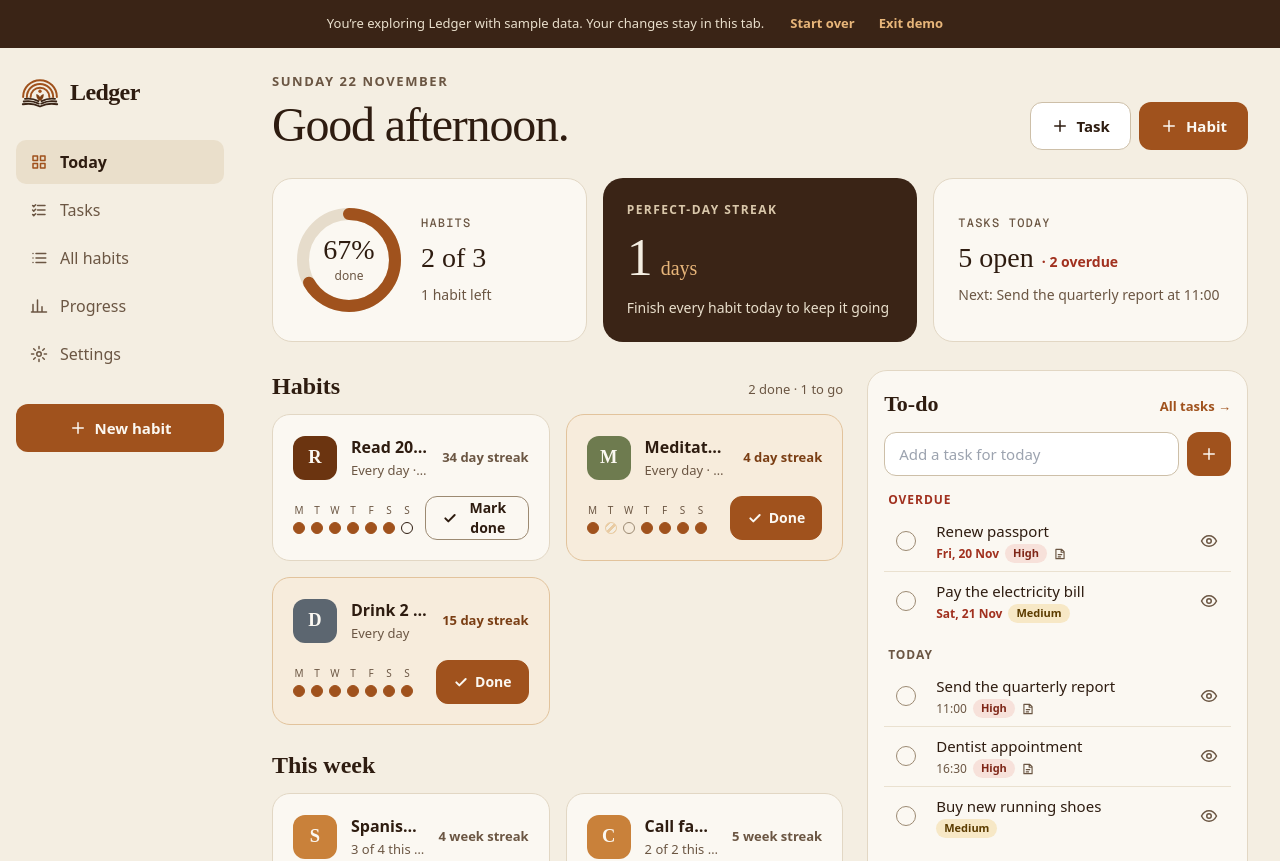
demo › labels account features "Not in the demo" and disables them
The image size is (1280, 861).
Click the link "Settings".
click(75, 354)  # box x1=30 y1=343 x2=121 y2=365
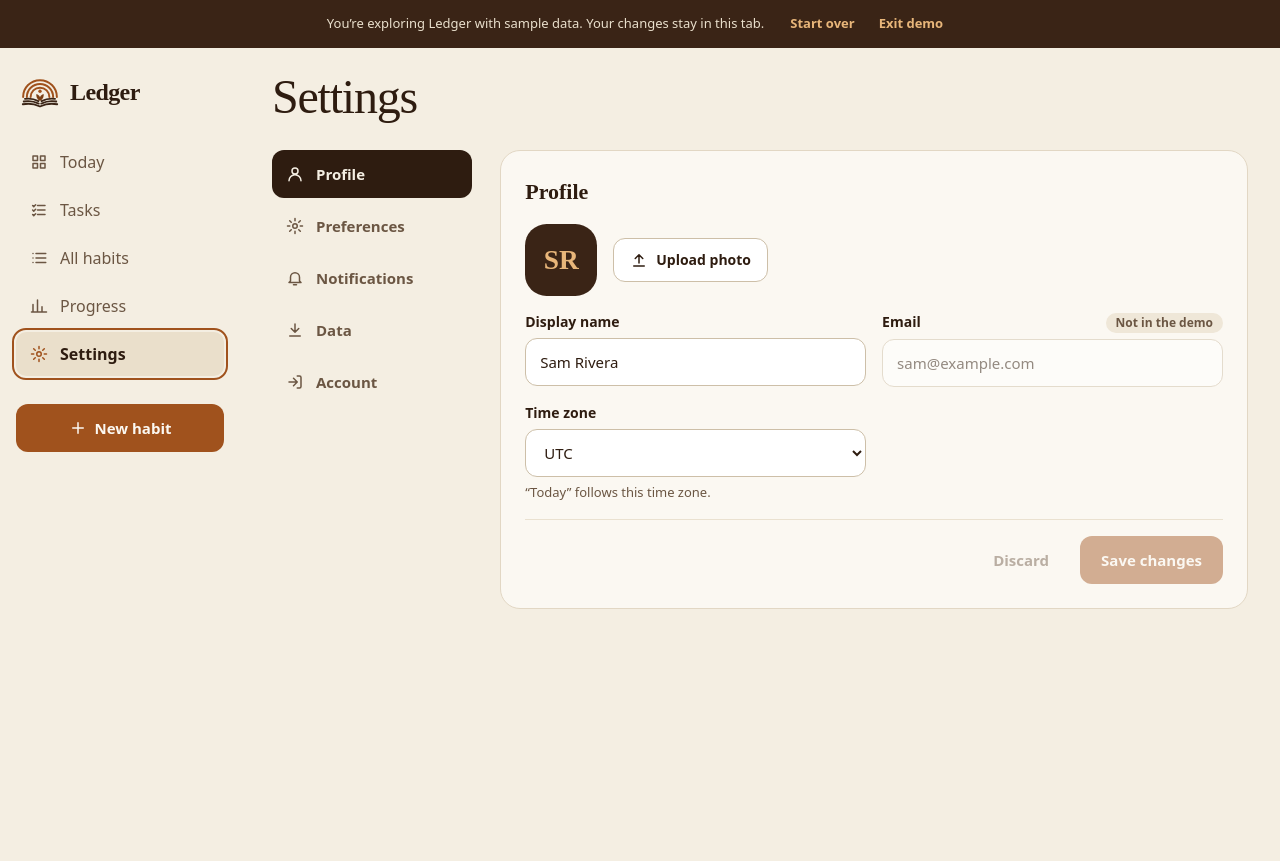
Click the link "Account".
click(332, 382)  # box x1=286 y1=372 x2=377 y2=392
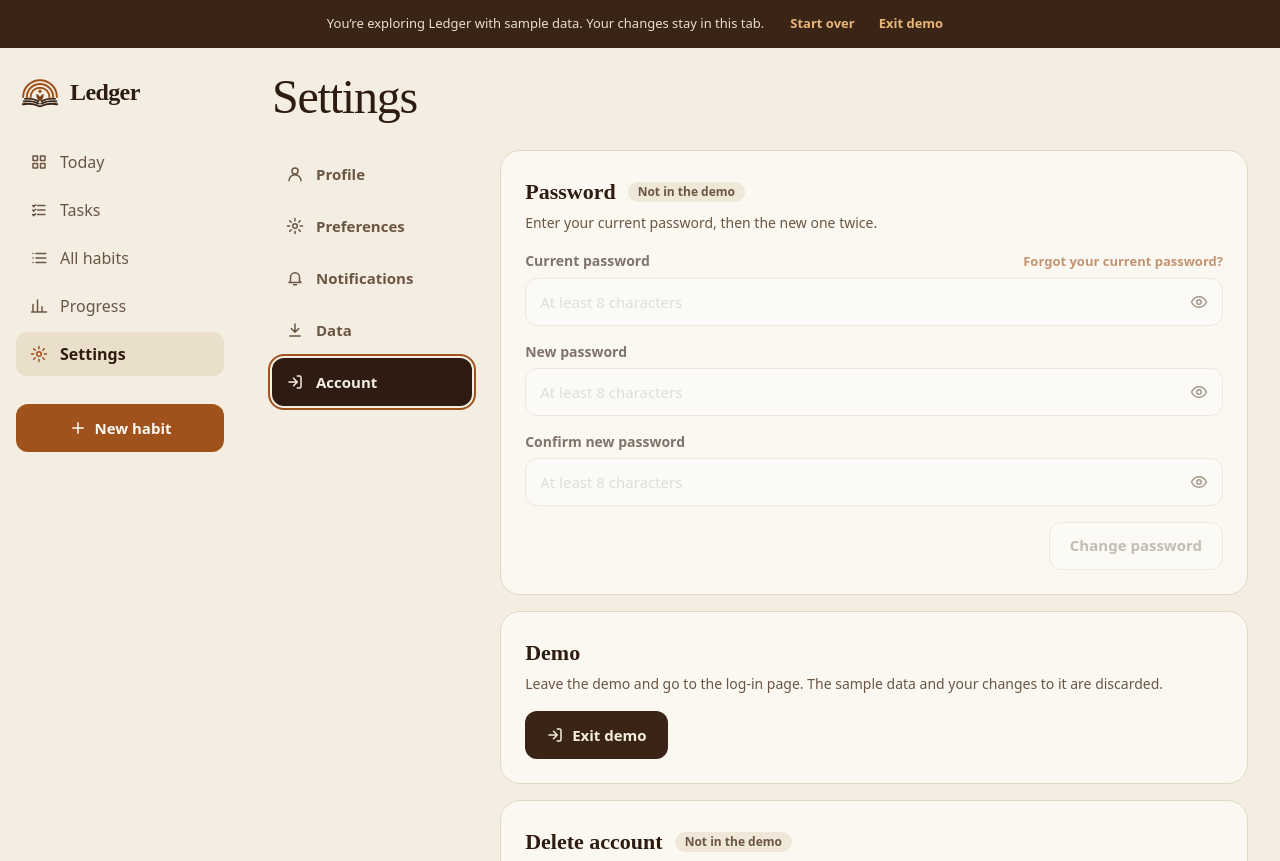
Expected: the 1st text "Not in the demo" is shown, x1=628 y1=182 x2=745 y2=202
Expected: the text "Not in the demo" next to "Delete account" is shown, x1=685 y1=833 x2=782 y2=850
Expected: the button "Change password" is disabled, x1=1049 y1=522 x2=1223 y2=570
Click the button "Exit demo" below "Confirm new password".
click(596, 735)  # box x1=525 y1=711 x2=668 y2=759
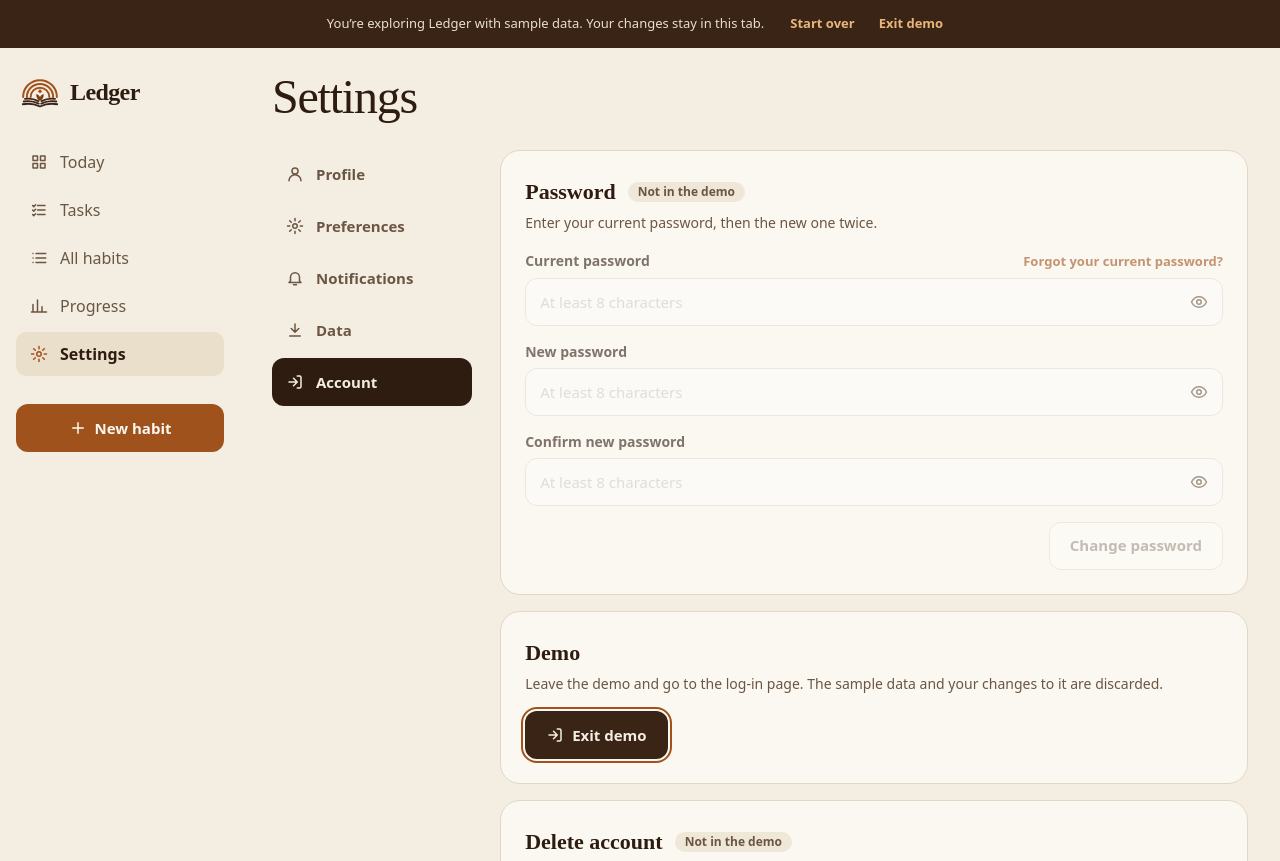
Click the link "Notifications".
click(350, 278)  # box x1=286 y1=268 x2=413 y2=288
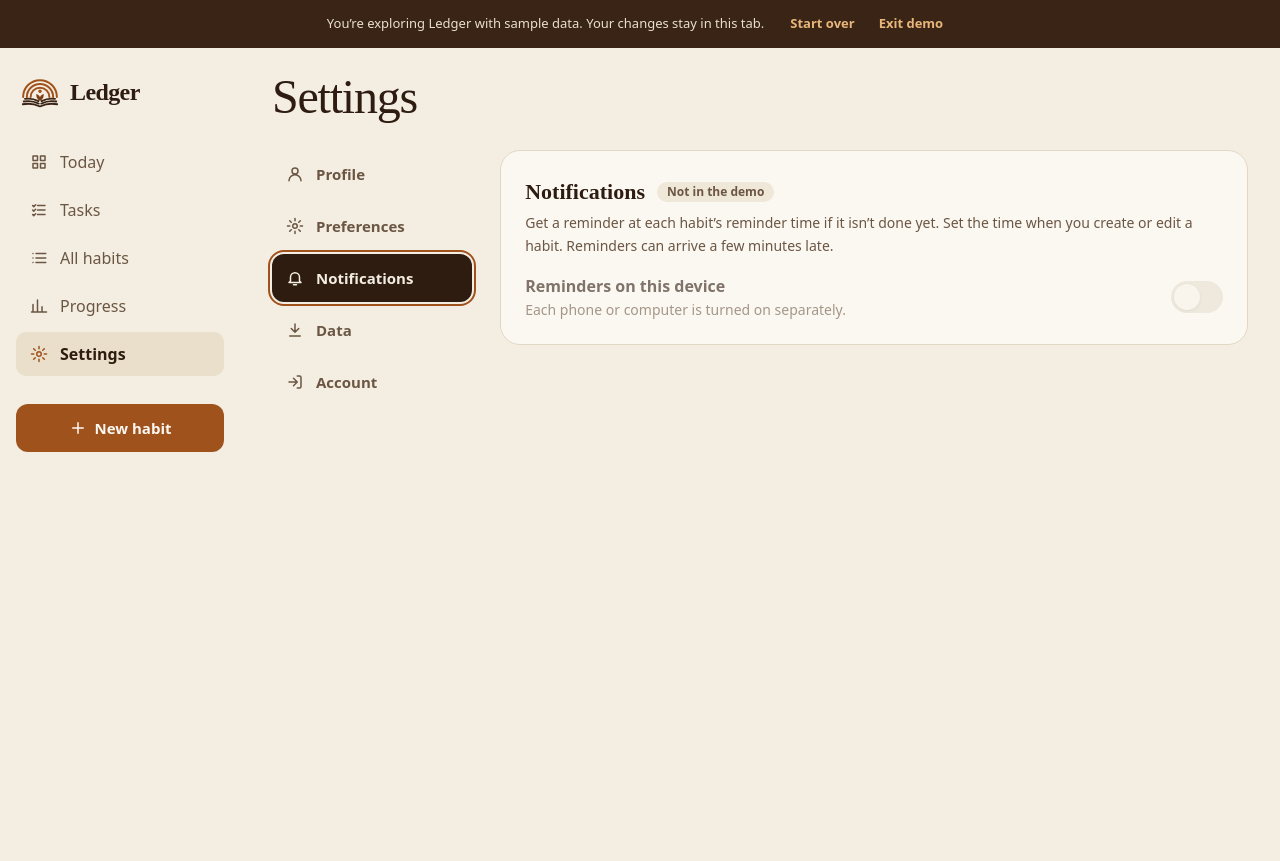
Expected: the text "Not in the demo" is shown, x1=657 y1=182 x2=774 y2=202
Expected: the switch named "Reminders on this device" is disabled, x1=1171 y1=281 x2=1223 y2=313
Click the link "Profile".
click(326, 174)  # box x1=286 y1=164 x2=365 y2=184
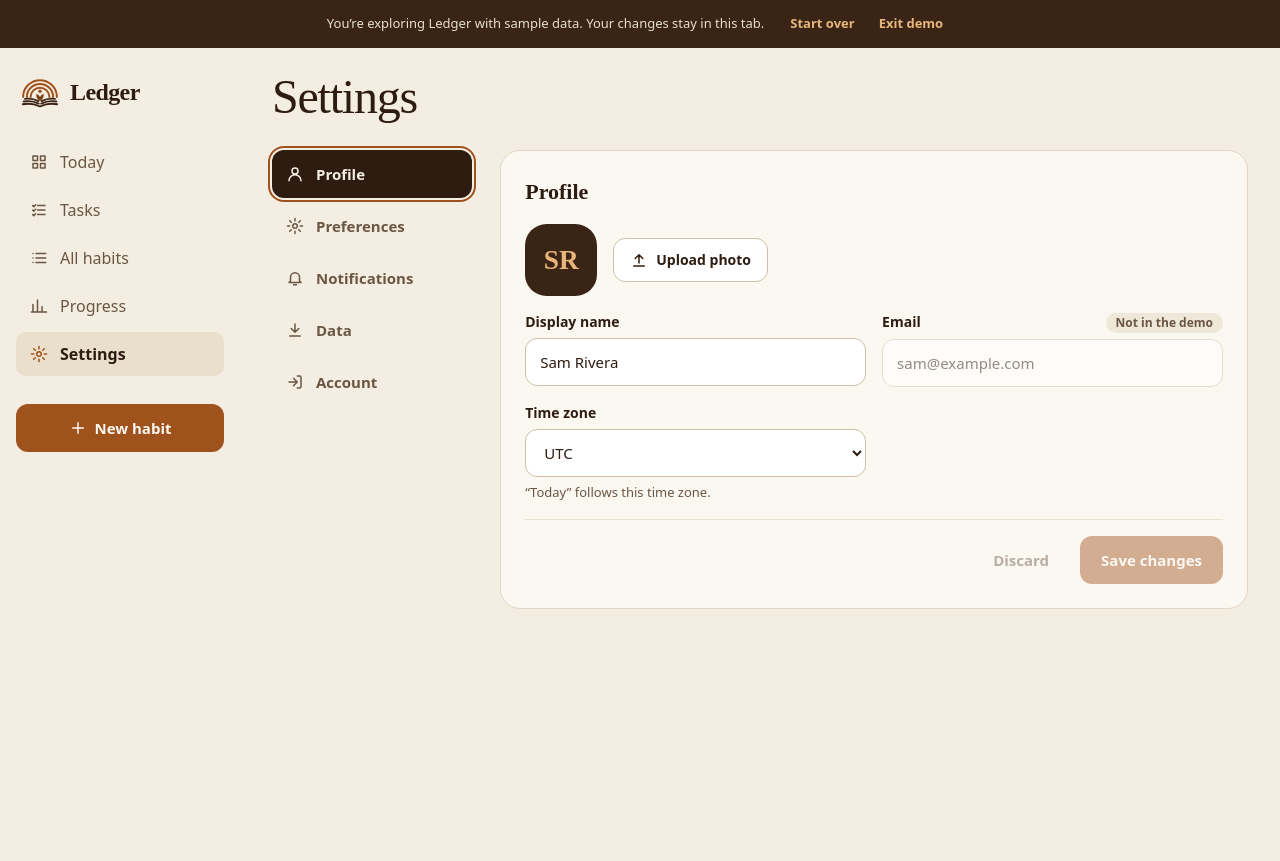
Expected: the field labelled "Email" is disabled, x1=882 y1=339 x2=1223 y2=387
Expected: the field labelled "Display name" is enabled, x1=525 y1=338 x2=866 y2=386
